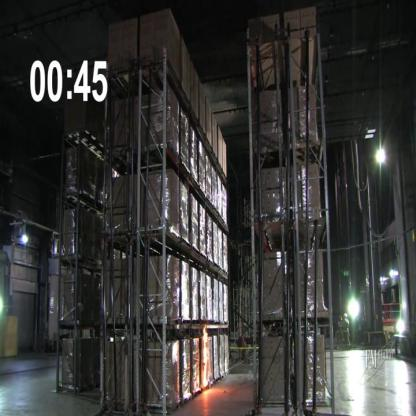fire: (199, 326, 211, 394)
